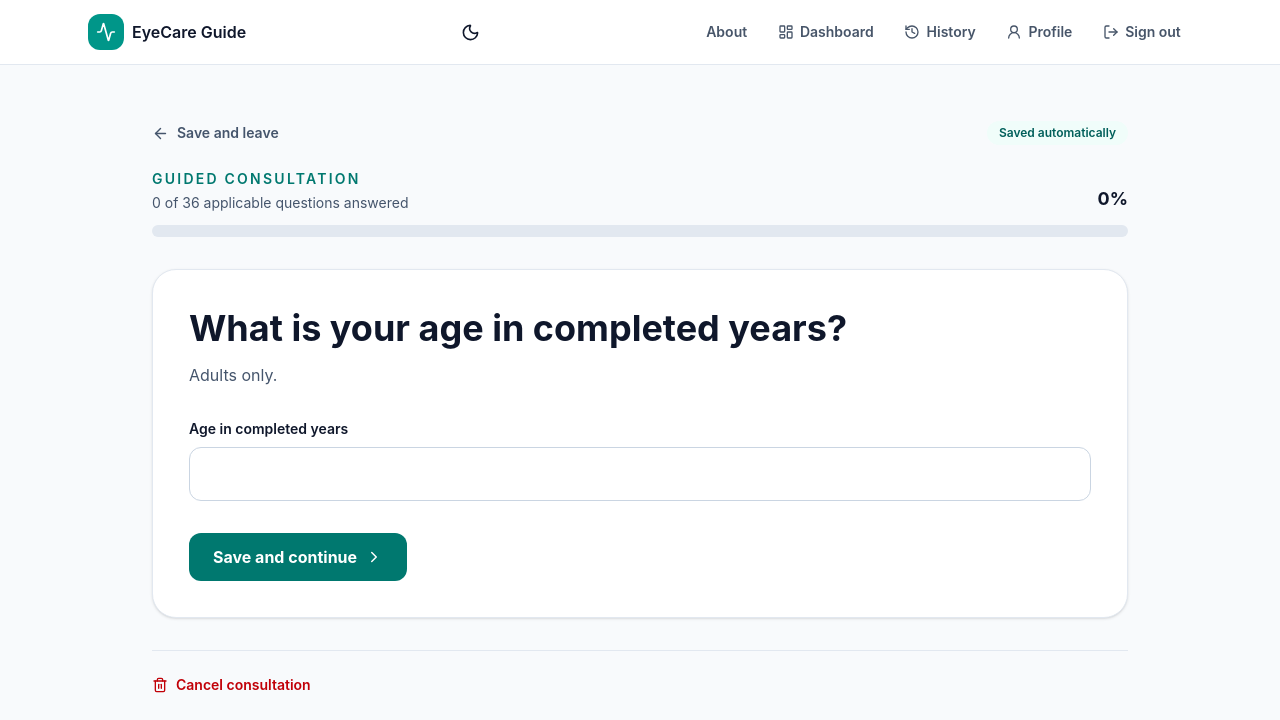
Scenario: App authentication experience › presents one consultation question at a time and autosaves an answer
This screenshot has width=1280, height=720.
Expected: the heading "What is your age in completed years?" is shown, x1=189 y1=306 x2=957 y2=351
Type "32" into the number field labelled "Age in completed years" at (640, 474), box x1=189 y1=447 x2=1091 y2=501
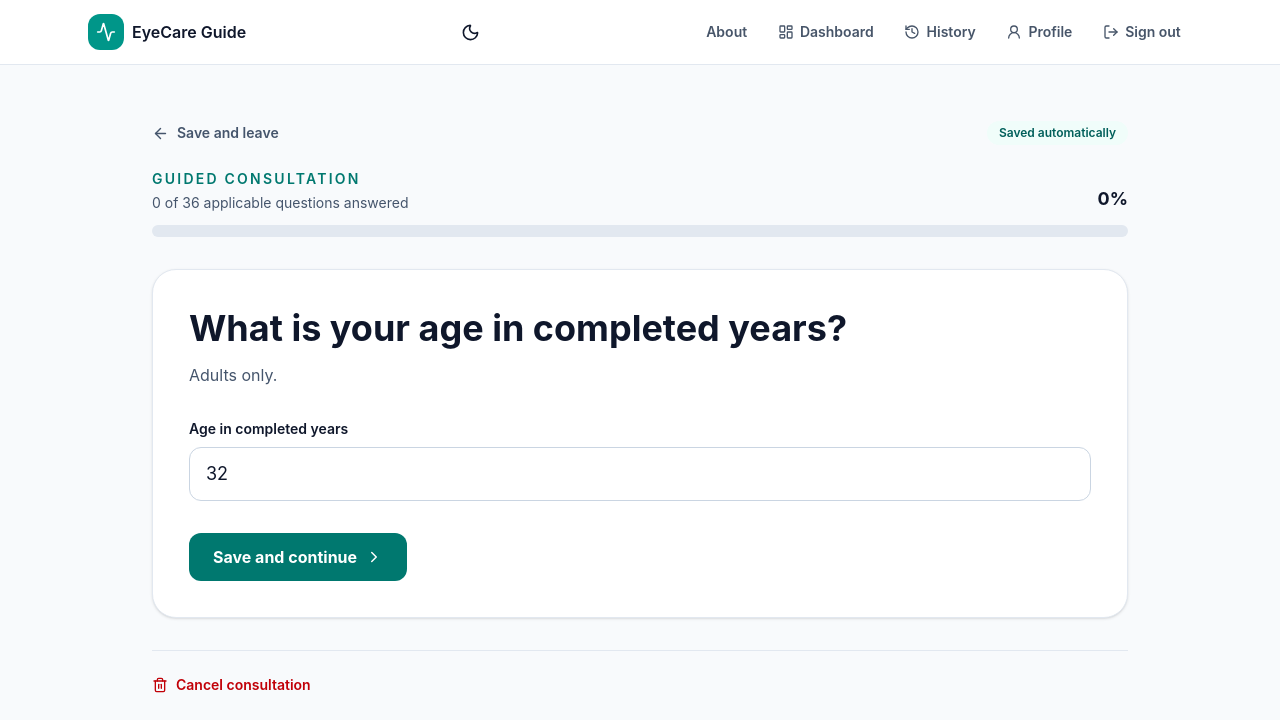
Click the button "Save and continue" at (298, 557), box x1=189 y1=533 x2=407 y2=581
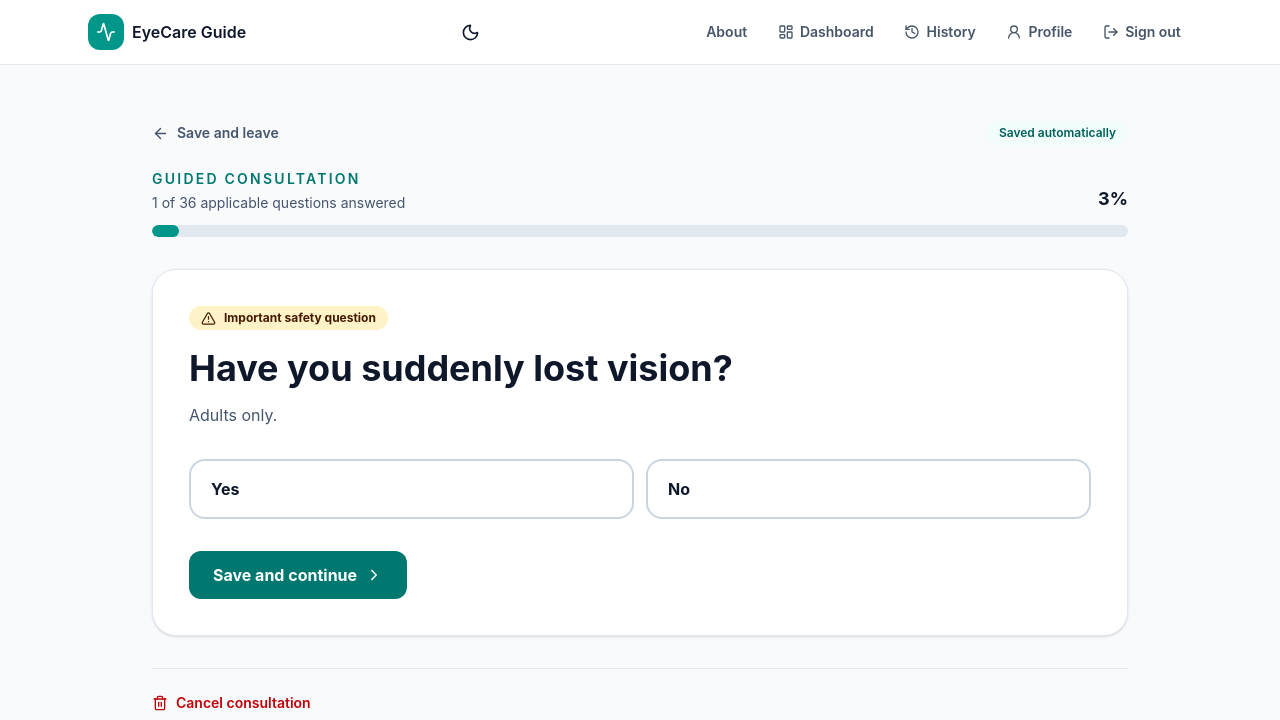
Expected: the heading "Have you suddenly lost vision?" is shown, x1=189 y1=346 x2=733 y2=390
